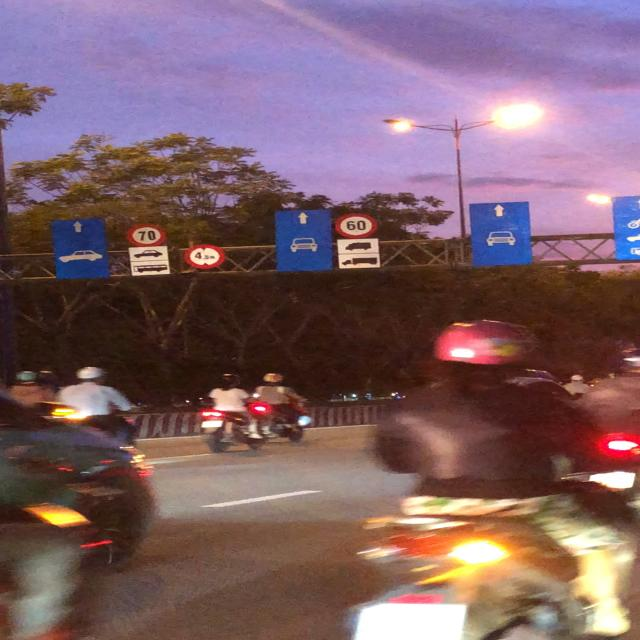Bien bao han che chieu cao: (183, 242, 232, 270)
Bien bao toc do toi da cho phep: (329, 211, 389, 240), (123, 222, 170, 247)
